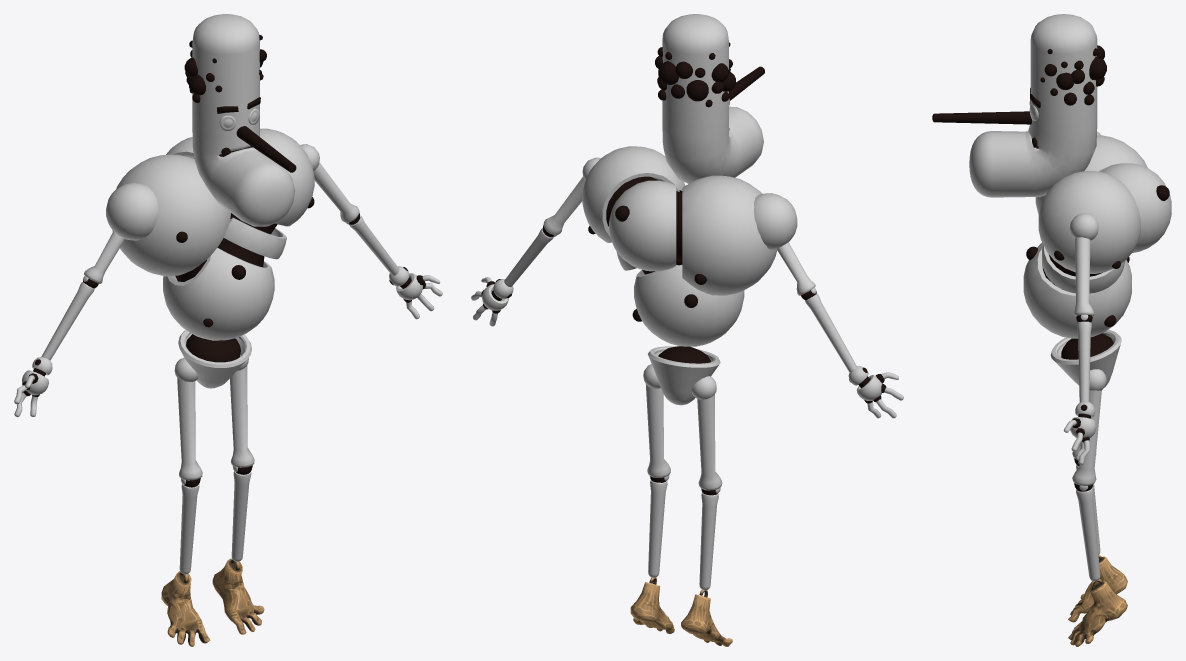
File: dioptryk_14_exp.obj
3 views of the same model, side by side, from view 1: azimuth 30°, elevation 25°; view 2: azimuth 150°, elevation 25°; view 3: azimuth 270°, elevation 25° (orthographic). The views are drawn at different scales.
Parts seen in each view (by area): view 1: Head_DioptrykMetal, torso_02_DioptrykMetal, torso_03_DioptrykMetal, torso_06_DioptrykMetal, torso_01_DioptrykMetal, Foot.R_Dioptryk_foot, Foot.L_Dioptryk_foot, LegUp.R_DioptrykMetal, LegUp.L_DioptrykMetal, pelvis_01_DioptrykMetal, torso_07_DioptrykMetal, LegDown.R_DioptrykMetal (+9 smaller); view 2: Head_DioptrykMetal, torso_02_DioptrykMetal, torso_03_DioptrykMetal, torso_04_DioptrykMetal, torso_01_DioptrykMetal, Head_Balls_Cable, pelvis_01_DioptrykMetal, torso_06_DioptrykMetal, LegUp.R_DioptrykMetal, LegUp.L_DioptrykMetal, LegDown.L_DioptrykMetal, LegDown.R_DioptrykMetal (+8 smaller); view 3: Head_DioptrykMetal, torso_01_DioptrykMetal, torso_03_DioptrykMetal, torso_04_DioptrykMetal, Foot.L_Dioptryk_foot, Head_Balls_Cable, torso_02_DioptrykMetal, pelvis_01_DioptrykMetal, LegDown.L_DioptrykMetal, torso_07_DioptrykMetal, HandUp.L_DioptrykMetal, Nose_Cable (+5 smaller).
Boxes of the visible parts, box(x1,y1,x2,y2) form: Head_DioptrykMetal: box(192, 14, 295, 226); torso_02_DioptrykMetal: box(112, 154, 230, 276); torso_03_DioptrykMetal: box(163, 247, 274, 340); torso_06_DioptrykMetal: box(106, 182, 158, 240); torso_01_DioptrykMetal: box(260, 128, 314, 226); Foot.R_Dioptryk_foot: box(161, 571, 210, 646); Foot.L_Dioptryk_foot: box(212, 558, 264, 634); LegUp.R_DioptrykMetal: box(177, 377, 202, 480); LegUp.L_DioptrykMetal: box(230, 365, 254, 467); pelvis_01_DioptrykMetal: box(178, 330, 251, 388); torso_07_DioptrykMetal: box(223, 217, 286, 259); LegDown.R_DioptrykMetal: box(179, 483, 199, 574); Head_DioptrykMetal: box(662, 14, 763, 183); torso_02_DioptrykMetal: box(682, 175, 776, 295); torso_03_DioptrykMetal: box(634, 265, 744, 346); torso_04_DioptrykMetal: box(609, 180, 676, 271); torso_01_DioptrykMetal: box(582, 146, 685, 242); Head_Balls_Cable: box(655, 42, 735, 107); pelvis_01_DioptrykMetal: box(648, 346, 720, 405); torso_06_DioptrykMetal: box(754, 193, 797, 249); LegUp.R_DioptrykMetal: box(697, 394, 722, 490); LegUp.L_DioptrykMetal: box(645, 384, 670, 477); LegDown.L_DioptrykMetal: box(648, 480, 667, 577); LegDown.R_DioptrykMetal: box(699, 492, 718, 590); Head_DioptrykMetal: box(969, 14, 1097, 197); torso_01_DioptrykMetal: box(1038, 171, 1140, 273); torso_03_DioptrykMetal: box(1023, 242, 1131, 338); torso_04_DioptrykMetal: box(1101, 163, 1171, 252); Foot.L_Dioptryk_foot: box(1068, 579, 1127, 646); Head_Balls_Cable: box(1040, 45, 1106, 105); torso_02_DioptrykMetal: box(1035, 135, 1147, 213); pelvis_01_DioptrykMetal: box(1050, 329, 1121, 387); LegDown.L_DioptrykMetal: box(1076, 487, 1100, 581); torso_07_DioptrykMetal: box(1042, 244, 1125, 293); HandUp.L_DioptrykMetal: box(1074, 237, 1094, 316); Nose_Cable: box(932, 111, 1031, 124).
Size of the model in its own units: 1.43 by 1.97 by 0.6999.
